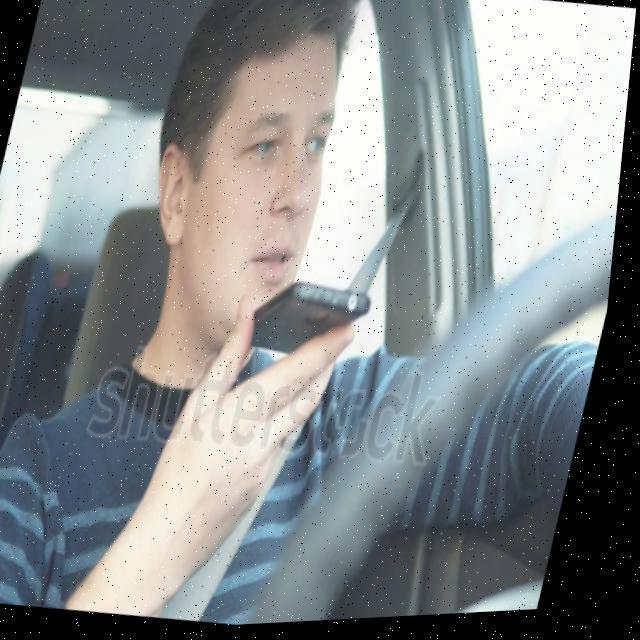PhoneCall: (240, 278, 382, 379)
